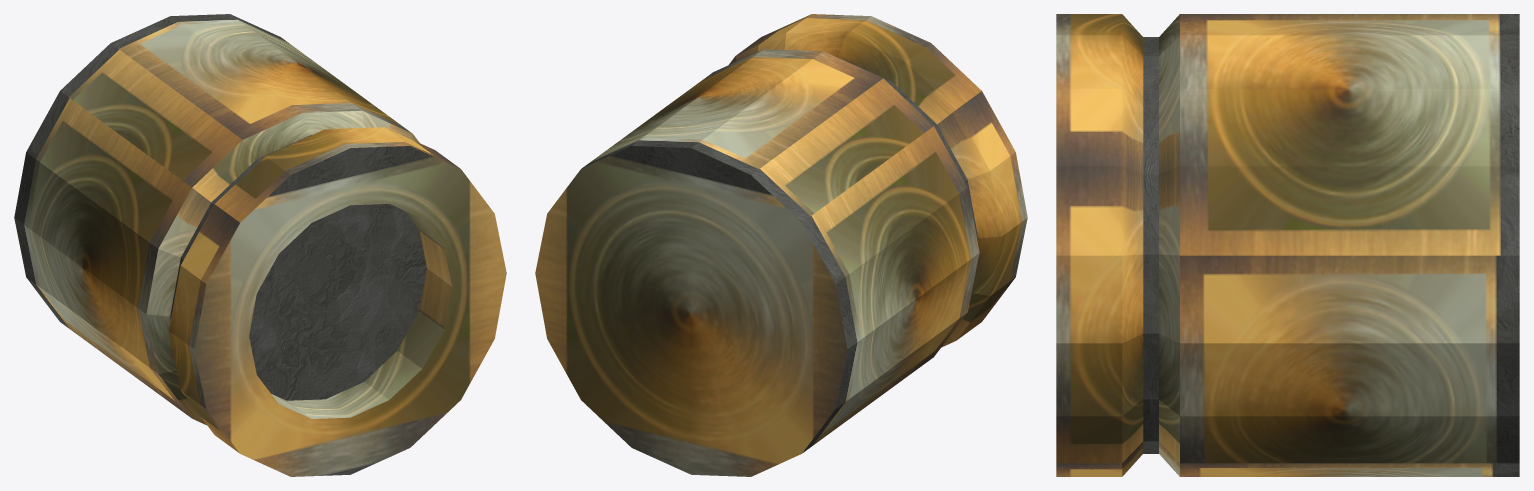
3 views of the same model, side by side, from view 1: azimuth 30°, elevation 25°; view 2: azimuth 150°, elevation 25°; view 3: azimuth 270°, elevation 25° (orthographic). The views are drawn at different scales.
Parts seen in each view (by area): view 1: Cube_Cube_None_QuartoPieces.png; view 2: Cube_Cube_None_QuartoPieces.png; view 3: Cube_Cube_None_QuartoPieces.png.
Boxes of the visible parts, left/top/right/bottom form: Cube_Cube_None_QuartoPieces.png: left=14, top=14, right=506, bottom=476; Cube_Cube_None_QuartoPieces.png: left=535, top=14, right=1027, bottom=476; Cube_Cube_None_QuartoPieces.png: left=1056, top=14, right=1519, bottom=476.
Size of the model in its own units: 2 by 2 by 2.
